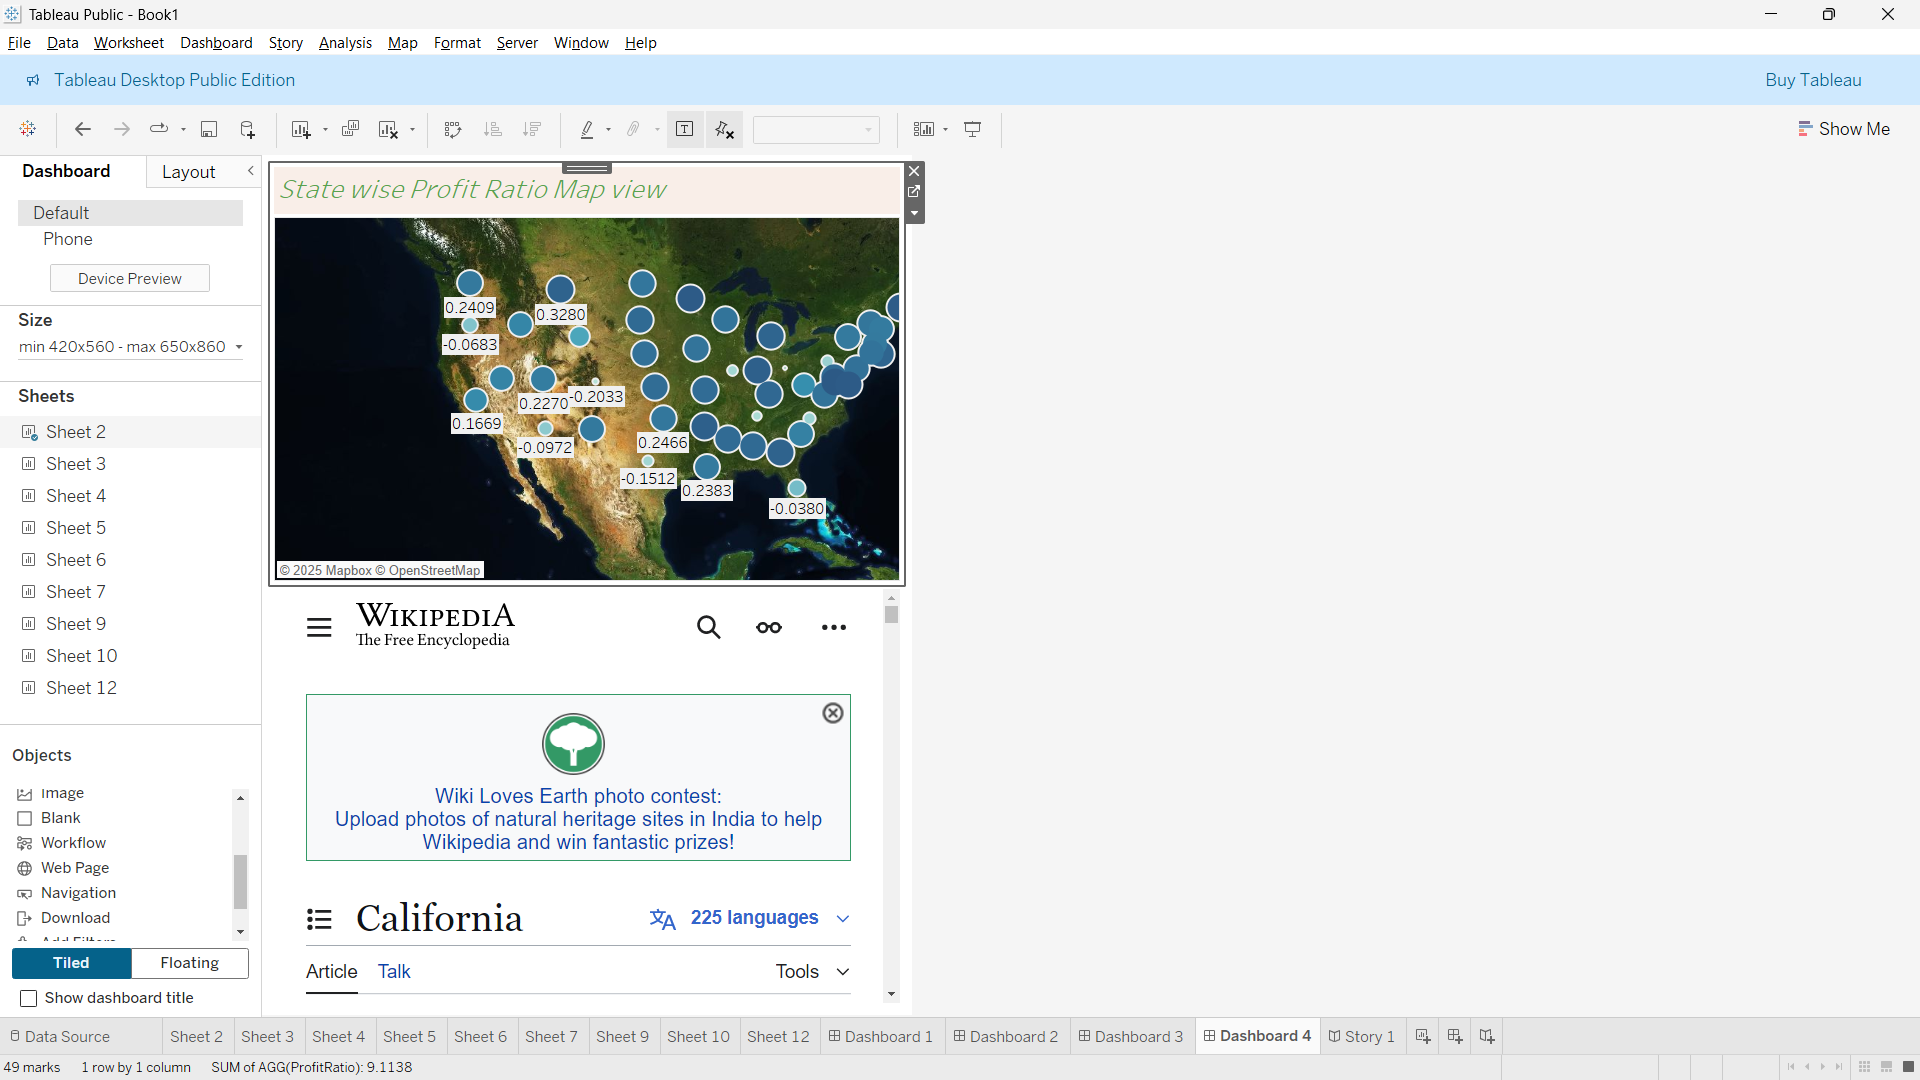

Layout of this report page (visuals, bound fields, positions):
{"tool":"tableau","page":{"name":"Dashboard 4","canvas":[650,860],"ordinal":3},"visuals":[{"type":"worksheet","title":"Sheet 2","mark":"Automatic","box":[8,8,634,422]},{"type":"web page","param":"https://en.wikipedia.org/wiki/California","box":[8,430,634,422]}]}

Visuals, with their boxes on the page's 650x860 design canvas (x1, y1, x2, y2). These are canvas units, not pixel positions in the 1920x1080 screenshot, which may show the page scaled, cropped or inside an application window:
"Sheet 2" worksheet: 8 8 642 430
web page: 8 430 642 852
